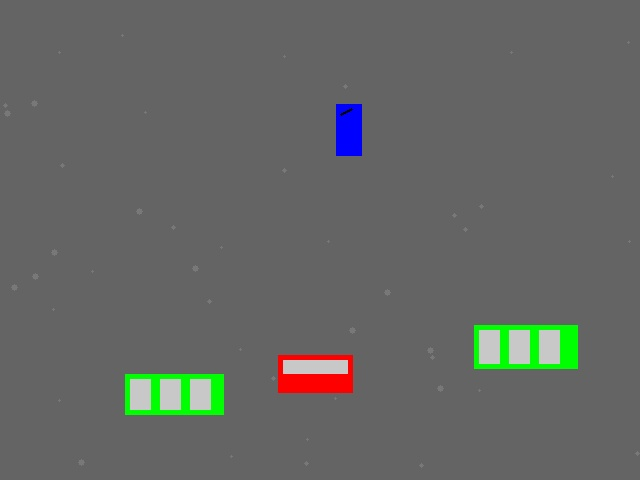bus: (474, 325, 577, 368), (125, 374, 223, 414)
car: (278, 355, 352, 392)
motorcycle: (336, 104, 361, 155)
